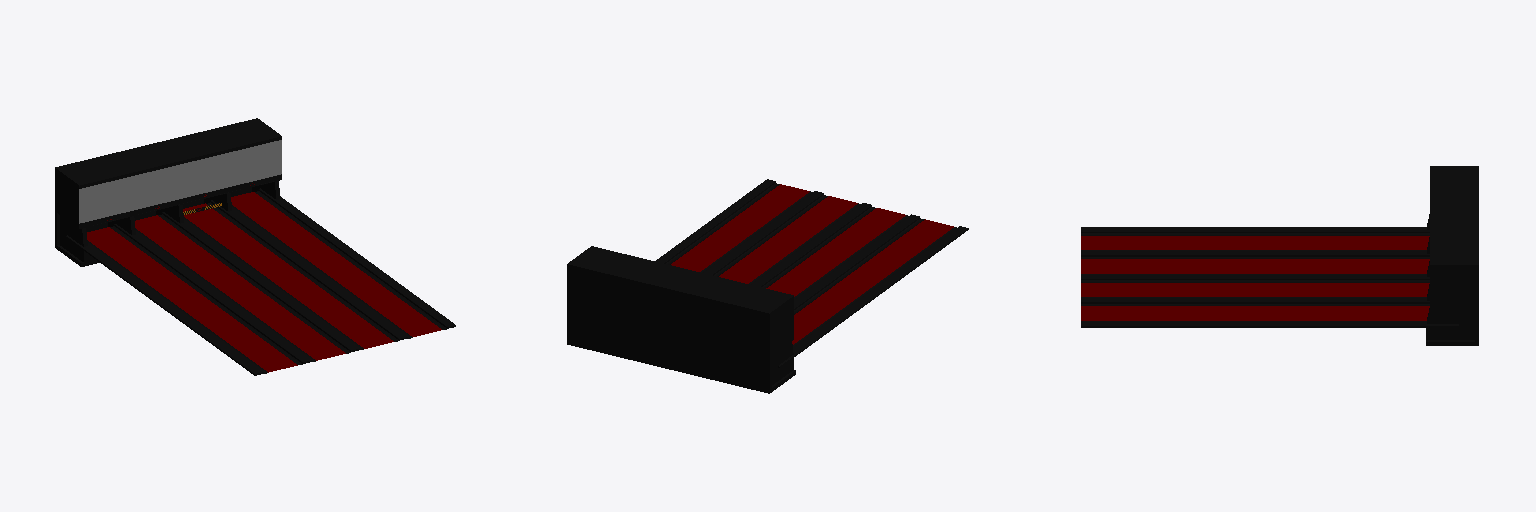
The model's file is bowling_alley.obj.
3 views of the same model, side by side, from view 1: azimuth 30°, elevation 25°; view 2: azimuth 150°, elevation 25°; view 3: azimuth 270°, elevation 25° (orthographic).
Parts seen in each view (by area): view 1: Object001, Box013; view 2: Object001, Box013; view 3: Object001, Box013.
Boxes of the visible parts, x1,y1,x2,y2 form: Object001: [66, 188, 455, 375]; Box013: [55, 118, 281, 266]; Object001: [655, 179, 968, 367]; Box013: [567, 246, 795, 393]; Object001: [1081, 227, 1458, 327]; Box013: [1426, 166, 1478, 345].
Size of the model in its own units: 6.86 by 2.6 by 11.69.